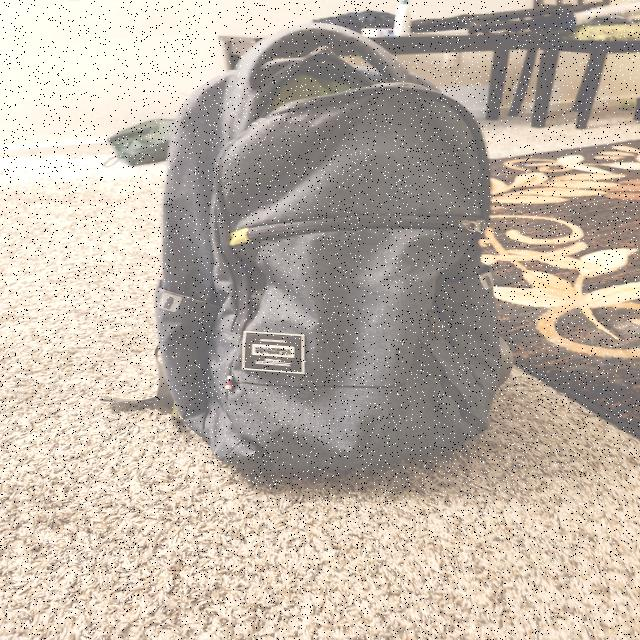bag: (200, 34, 481, 472)
